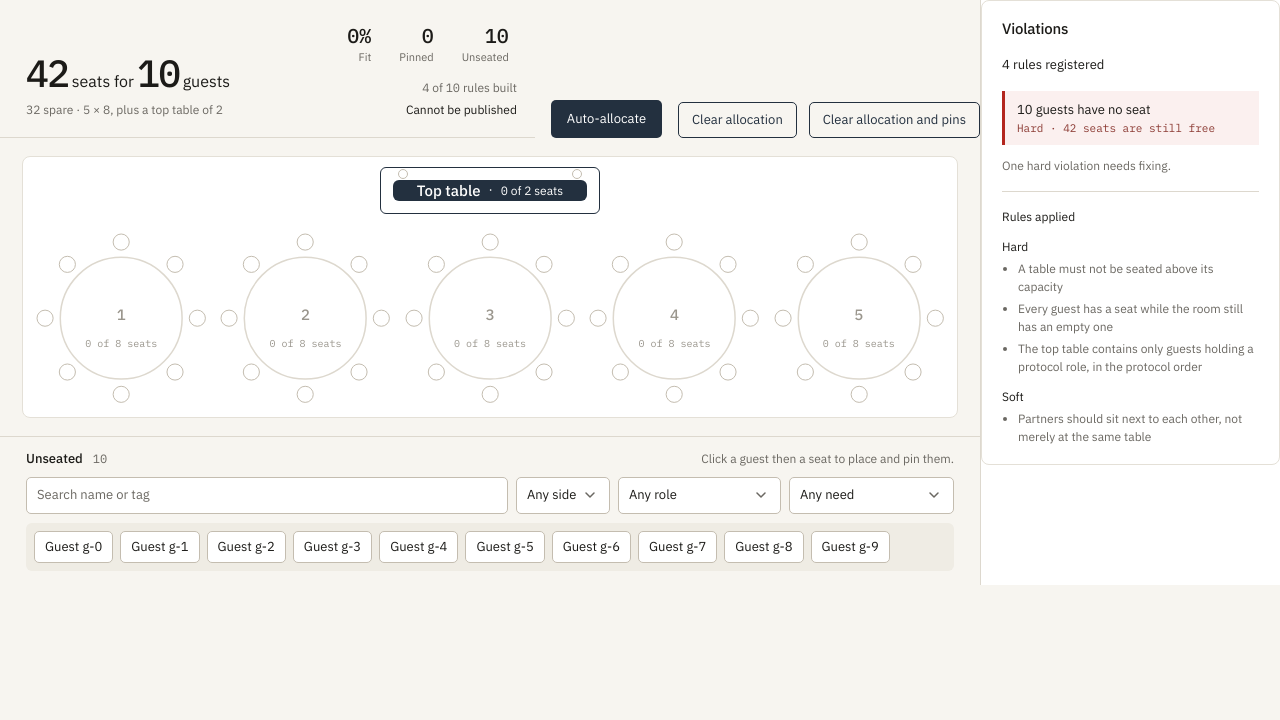
TT-48 — the coverage factor, driven end to end through the real PlanScreen › the score breakdown on an unfinished plan lists everyone-seated as a Hard row with its missed count
What coordinates should you click on to do the following:
click the button "0% Fit"
I would click on:
 (359, 47)
Its box is [339,22,379,71].
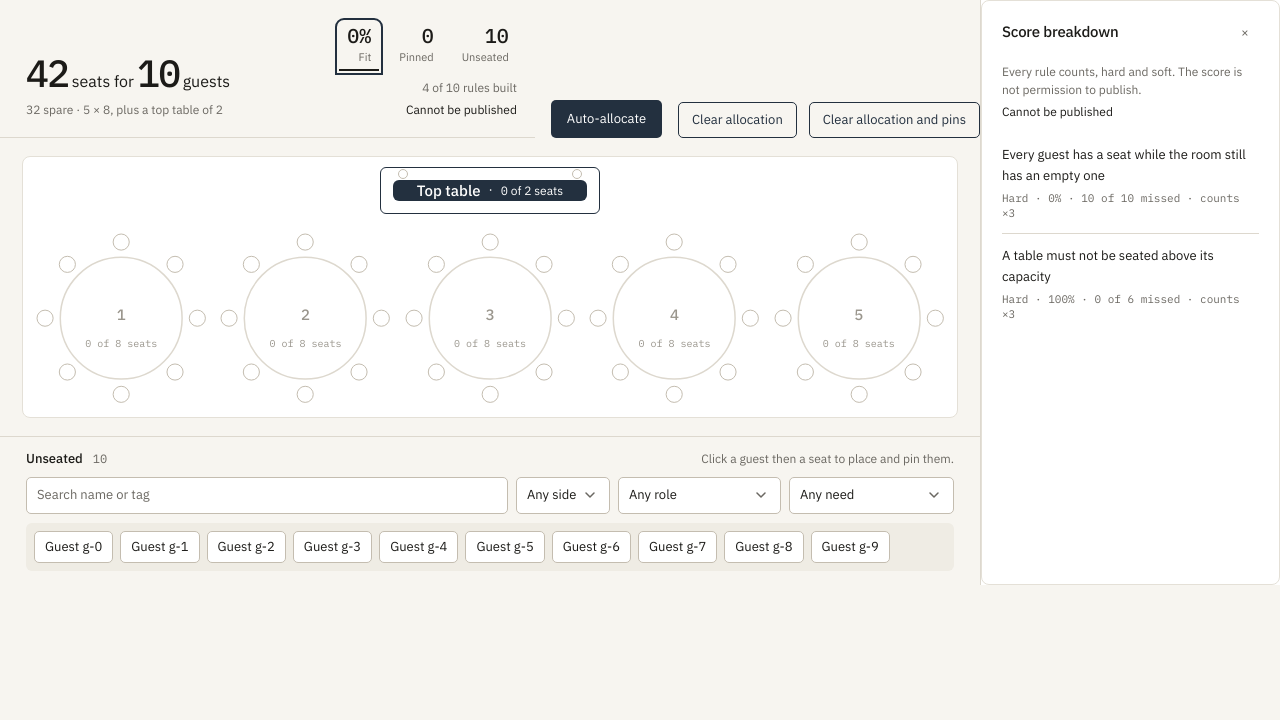
Now the heading "Score breakdown" is shown, box [1002,22,1118,41]
Now the list item "Every guest has a seat while the room still has an empty one" is shown, box [1002,146,1246,184]
Now the list item "Every guest has a seat while the room still has an empty one" shows "Hard", box [1002,191,1028,205]
